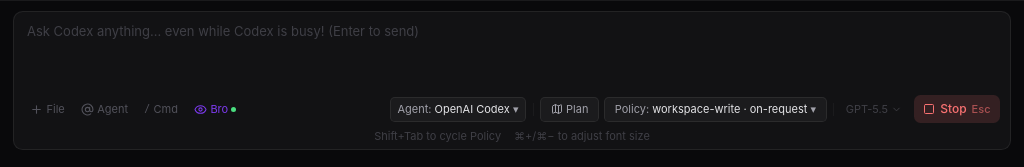
Scenario: stop-session escalation (integration) › healthy CLI: turn_complete clears busy before the timeout, cancelling the force escalation
The image size is (1024, 167).
Click the button "Stop Esc". click: [957, 109]
box: x1=914 y1=95 x2=1000 y2=123
Wait 4000 ms
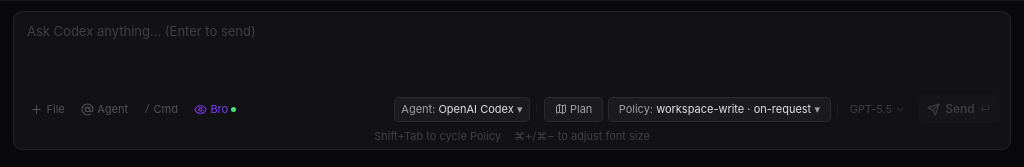
Expected: the text "Send" is shown, x1=945 y1=100 x2=975 y2=118
